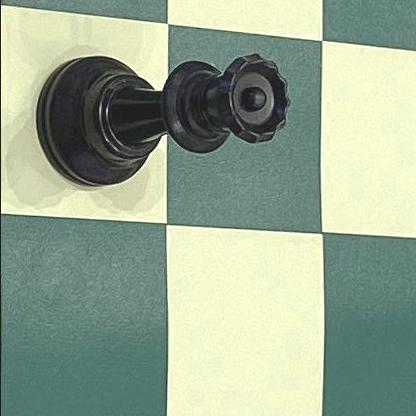black-queen: (32, 52, 290, 190)
